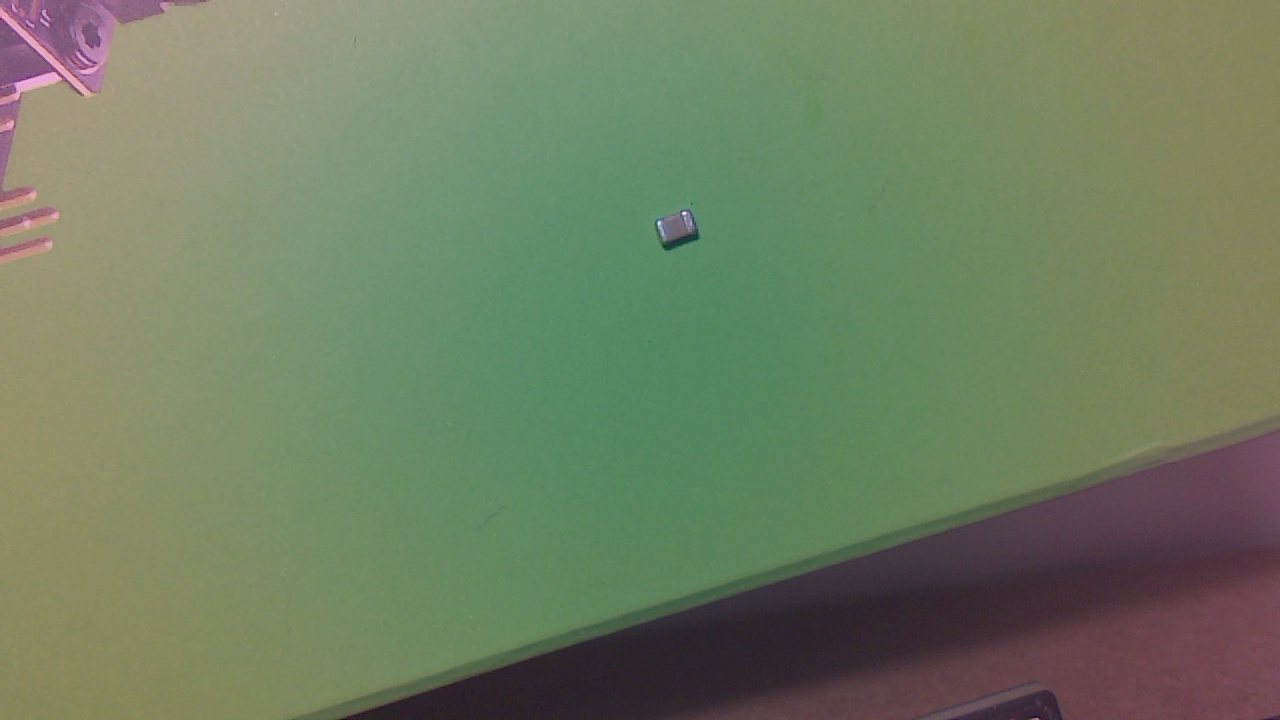Condensator: (660, 206, 704, 254)
